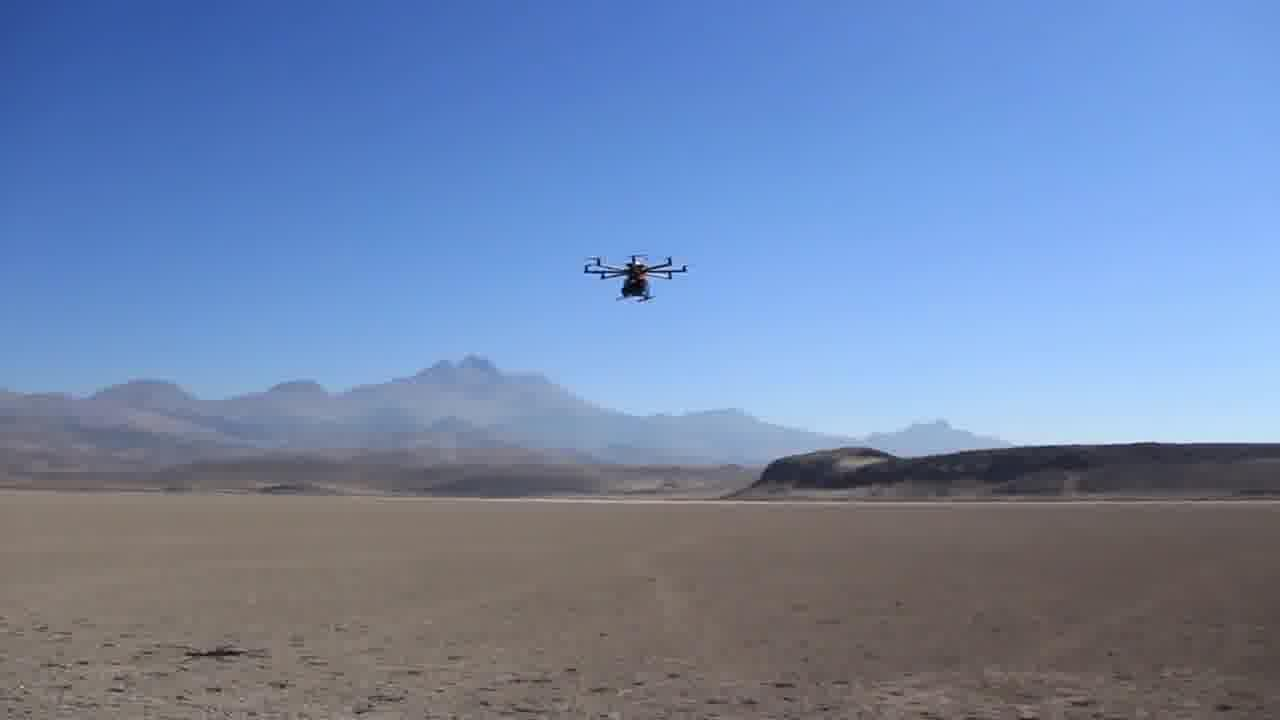drone: (577, 247, 690, 308)
